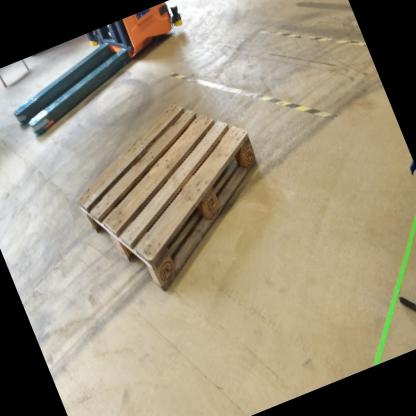BoxFace: (71, 97, 262, 301)
